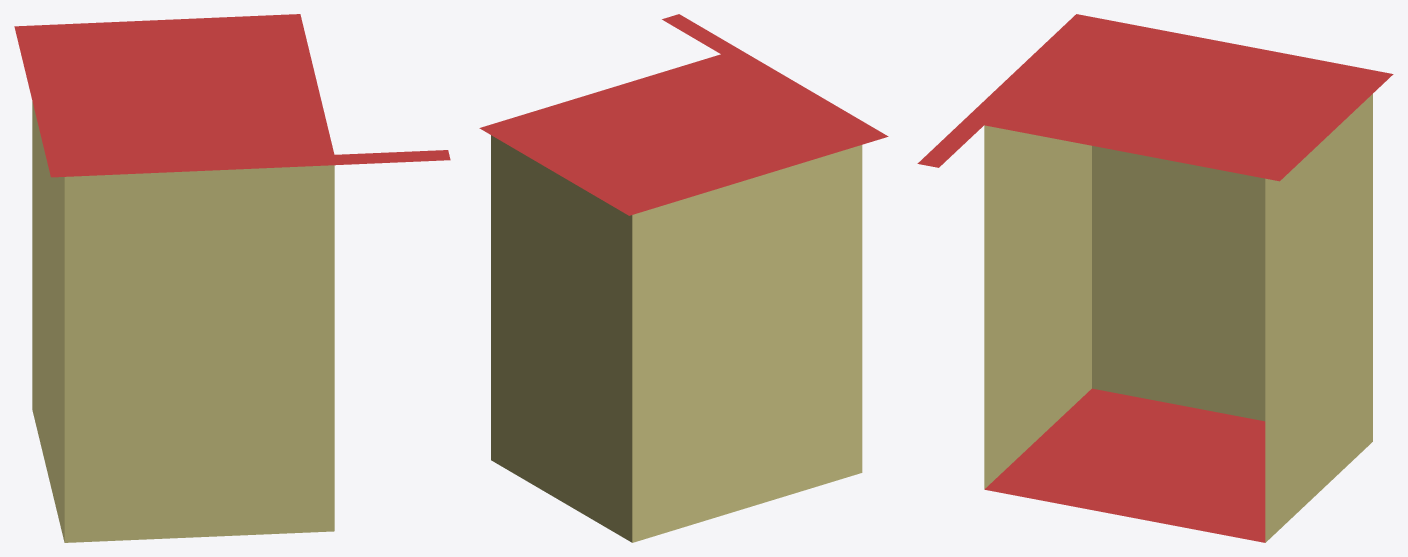
The picture shows the model from 3 angles, left to right: view 1: azimuth 30°, elevation 25°; view 2: azimuth 150°, elevation 25°; view 3: azimuth 270°, elevation 25°; orthographic projection. The views are drawn at different scales.
Bounding box in the file's own units: 6.3 × 7.58 × 6.4.
